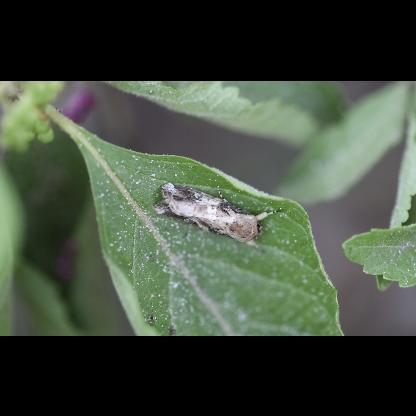Fall Armyworm Moth: (151, 181, 285, 253)
